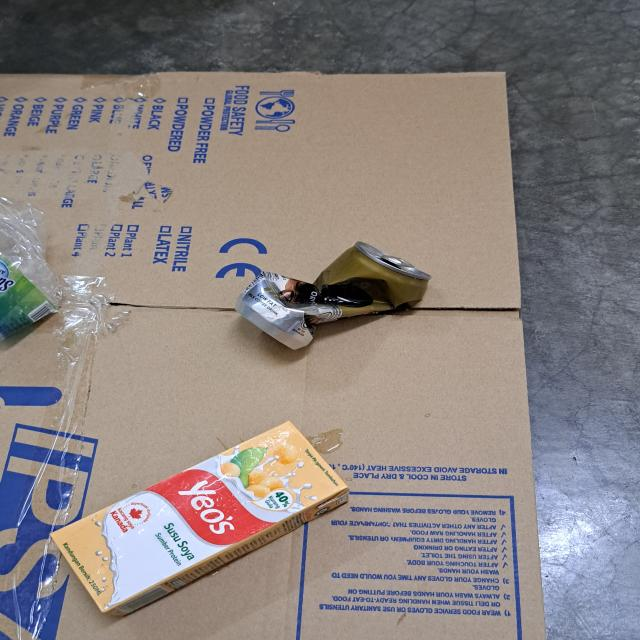can: (238, 237, 426, 352)
cardboard: (0, 60, 561, 640)
plastic bottle: (52, 416, 348, 615), (0, 191, 56, 339)
